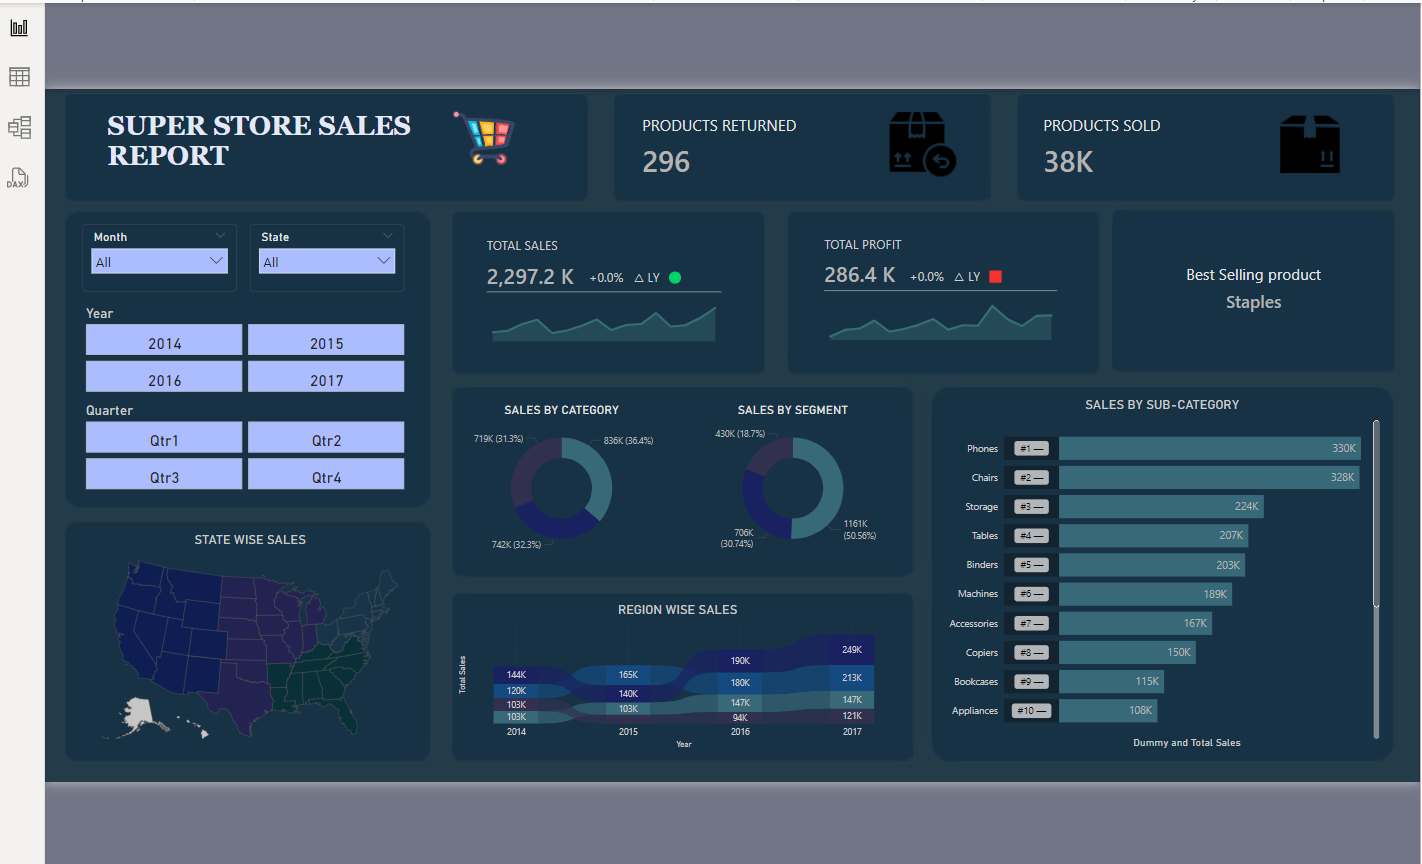

This screenshot's page, from the dashboard's own definition file:
{"tool":"powerbi","page":{"name":"Page 1","canvas":[1920,967],"ordinal":0},"visuals":[{"type":"lineChart","fields":{"Category":["DimDate.Year","DimDate.Quarter"],"Y":["Orders.Total Sales"]},"box":[596.8,187.4,367,185.4],"z":0},{"type":"lineChart","fields":{"Category":["DimDate.Year","DimDate.Quarter"],"Y":["Metrics.Total Profit"]},"box":[1068.1,185.4,365,185.4],"z":1000},{"type":"cardVisual","fields":{"Data":["Metrics.RODUCTS RETURNED"]},"box":[816,20,332.2,108],"z":2000},{"type":"ribbonChart","title":"REGION WISE SALES","fields":{"Category":["Orders.Ship Date.Variation.Date Hierarchy.Year"],"Series":["Orders.Region"],"Y":["Metrics.Total Sales"]},"box":[571.8,715.9,621.4,210.3],"z":3000},{"type":"shapeMap","title":"STATE WISE SALES","fields":{"Value":["Metrics.Total Sales"],"Category":["Orders.State"],"Series":["Orders.Region"]},"box":[52,616.6,467.8,309.5],"z":4000},{"type":"advancedSlicerVisual","fields":{"Values":["DimDate.Year"]},"box":[52,302.4,456,127.6],"z":5000},{"type":"slicer","fields":{"Values":["DimDate.Month"]},"box":[52,189,215,94.5],"z":6000},{"type":"advancedSlicerVisual","fields":{"Values":["DimDate.Quarter"]},"box":[52,437.1,456,127.6],"z":7000},{"type":"cardVisual","fields":{"Data":["Metrics.PRODUCTS SOLD"]},"box":[1376.2,20,373,104.4],"z":8000},{"type":"donutChart","title":"SALES BY CATEGORY","fields":{"Category":["Orders.Category"],"Y":["Metrics.Total Sales"]},"box":[571.8,437.1,297.7,219.7],"z":9000},{"type":"donutChart","title":"SALES BY SEGMENT","fields":{"Y":["Metrics.Total Sales"],"Category":["Orders.Segment"]},"box":[895.4,437.1,297.7,219.7],"z":10000},{"type":"barChart","title":"SALES BY SUB-CATEGORY","fields":{"Y":["Metrics.Dummy","Metrics.Total Sales"],"Category":["Orders.Sub-Category"]},"box":[1250.6,429.1,616.6,496.8],"z":11000},{"type":"textbox","box":[81.1,25.1,639.3,110.1],"z":12000},{"type":"slicer","fields":{"Values":["Orders.State"]},"box":[285.9,189,215,94.5],"z":13000},{"type":"cardVisual","fields":{"Data":["Metrics.Best Selling product"]},"box":[1507.4,189,359.1,177.2],"z":14000},{"type":"image","box":[519.9,7.7,201,127.6],"z":15000},{"type":"image","box":[1111.4,19.3,228.1,116],"z":16000},{"type":"image","box":[1691.3,19.3,146.9,116],"z":17000}]}

Visuals, with their boxes in screenshot pixels (x1, y1, x2, y2):
lineChart - DimDate.Year x DimDate.Quarter: l=452, t=127, r=730, b=267
lineChart - DimDate.Year x DimDate.Quarter: l=809, t=126, r=1085, b=266
cardVisual - Metrics.RODUCTS RETURNED: l=618, t=0, r=869, b=82
"REGION WISE SALES" ribbonChart: l=433, t=527, r=904, b=687
"STATE WISE SALES" shapeMap: l=39, t=452, r=394, b=686
advancedSlicerVisual - DimDate.Year: l=39, t=214, r=385, b=311
slicer - DimDate.Month: l=39, t=128, r=202, b=200
advancedSlicerVisual - DimDate.Quarter: l=39, t=316, r=385, b=413
cardVisual - Metrics.PRODUCTS SOLD: l=1042, t=0, r=1325, b=79
"SALES BY CATEGORY" donutChart: l=433, t=316, r=658, b=483
"SALES BY SEGMENT" donutChart: l=678, t=316, r=903, b=483
"SALES BY SUB-CATEGORY" barChart: l=947, t=310, r=1414, b=686
textbox: l=61, t=4, r=546, b=88
slicer - Orders.State: l=216, t=128, r=379, b=200
cardVisual - Metrics.Best Selling product: l=1141, t=128, r=1413, b=262
image: l=394, t=0, r=546, b=88
image: l=842, t=0, r=1014, b=88
image: l=1281, t=0, r=1392, b=88
